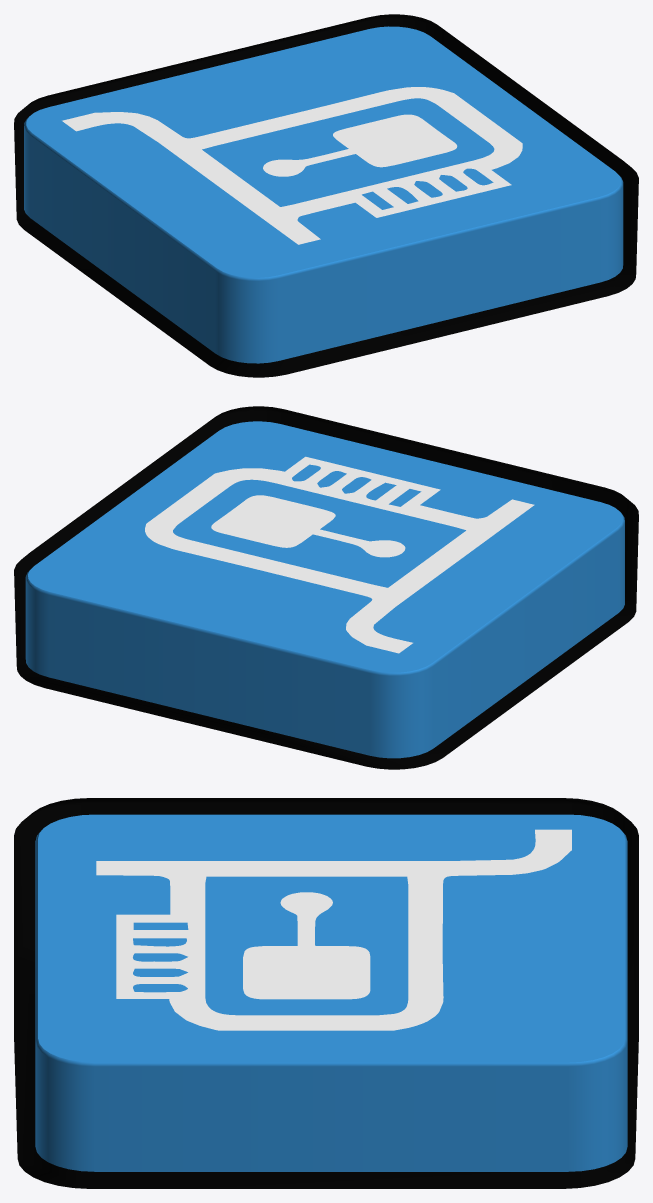
Rendered from HBACard.obj.
3 views of the same model, one above another, from view 1: azimuth 30°, elevation 25°; view 2: azimuth 150°, elevation 25°; view 3: azimuth 270°, elevation 25° (orthographic). The views are drawn at different scales.
Visible parts, largest first — view 1: HBACard; view 2: HBACard; view 3: HBACard.
Part boxes in pixels (x1=…): HBACard: x1=14, y1=14, x2=638, y2=377; HBACard: x1=14, y1=406, x2=638, y2=769; HBACard: x1=14, y1=798, x2=638, y2=1188.
Bounding box in the file's own units: 1.06 × 0.2484 × 1.06.
